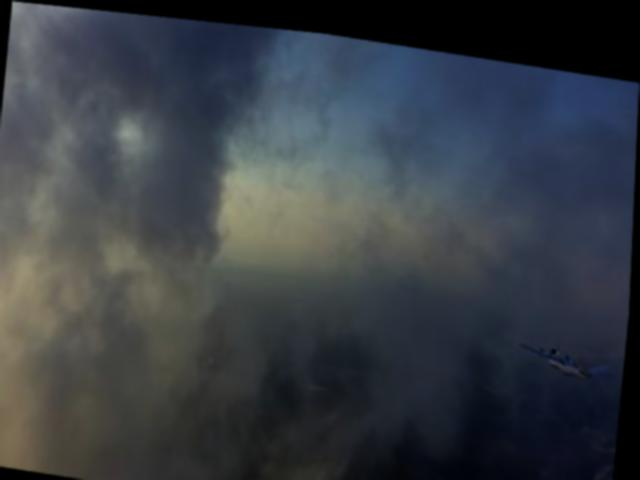uav: (519, 320, 619, 372)
